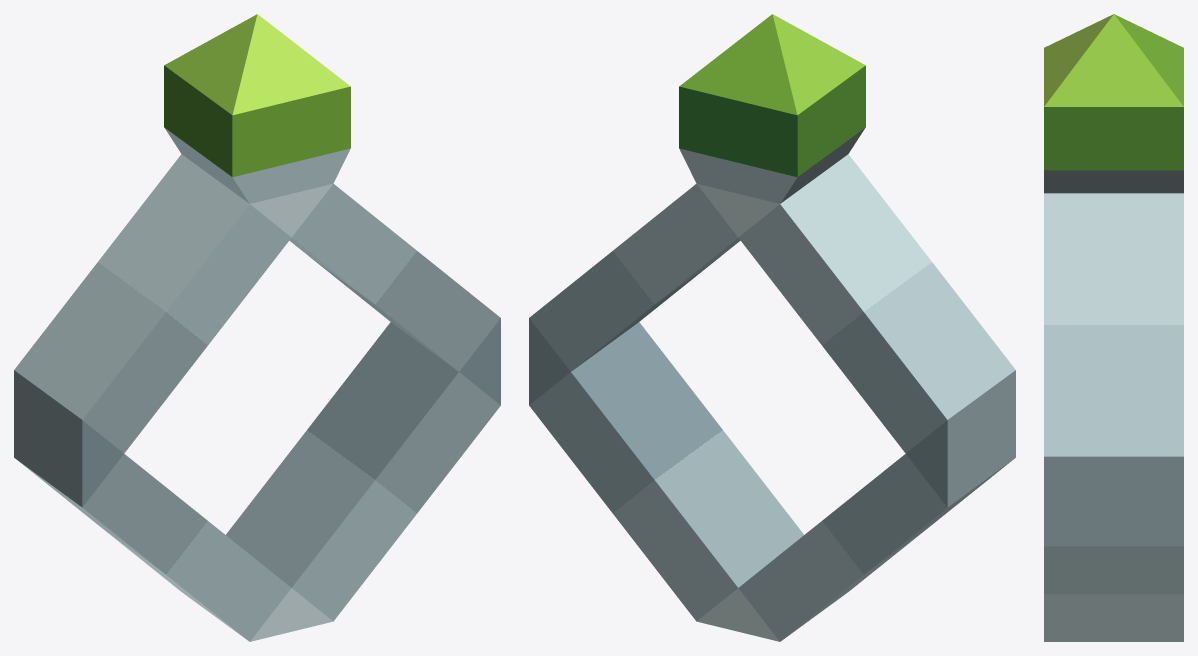
Rendered from ring_fortune_minor.obj.
3 renders of one model, left to right at view 1: azimuth 30°, elevation 25°; view 2: azimuth 150°, elevation 25°; view 3: azimuth 270°, elevation 25°, orthographic. The views are drawn at different scales.
Parts seen in each view (by area): view 1: RING_BASE_SILVER_Cube.036, RING_DECO_FORTUNE1_Cube.038; view 2: RING_BASE_SILVER_Cube.036, RING_DECO_FORTUNE1_Cube.038; view 3: RING_BASE_SILVER_Cube.036, RING_DECO_FORTUNE1_Cube.038.
Part boxes in pixels (bbox=[...]): RING_BASE_SILVER_Cube.036: bbox=[14, 154, 500, 641]; RING_DECO_FORTUNE1_Cube.038: bbox=[164, 14, 350, 203]; RING_BASE_SILVER_Cube.036: bbox=[529, 154, 1015, 641]; RING_DECO_FORTUNE1_Cube.038: bbox=[679, 14, 865, 203]; RING_BASE_SILVER_Cube.036: bbox=[1044, 193, 1183, 641]; RING_DECO_FORTUNE1_Cube.038: bbox=[1044, 14, 1183, 193].
Size of the model in its own units: 0.221 by 0.2991 by 0.0625.
